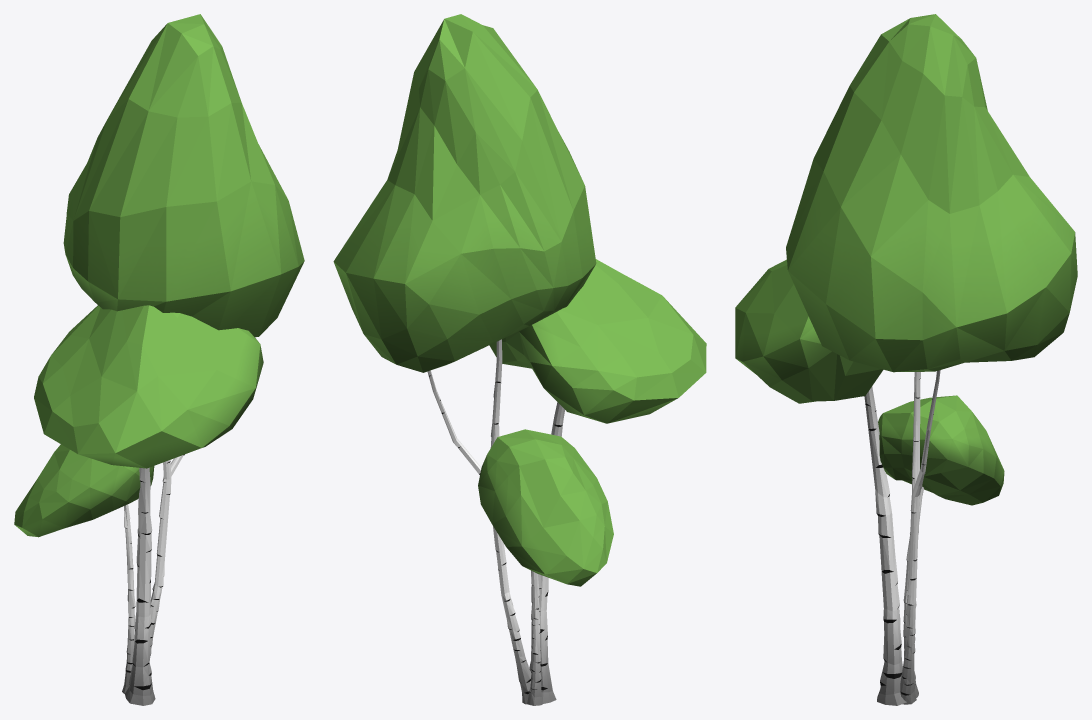
The model's file is TreeBirch-03.FBX.
3 views of the same model, side by side, from view 1: azimuth 30°, elevation 25°; view 2: azimuth 150°, elevation 25°; view 3: azimuth 270°, elevation 25° (orthographic). The views are drawn at different scales.
Parts seen in each view (by area): view 1: TreeBirch-03; view 2: TreeBirch-03; view 3: TreeBirch-03.
Boxes of the visible parts, box(x1,y1,x2,y2) form: TreeBirch-03: box(14, 14, 304, 705); TreeBirch-03: box(333, 14, 706, 705); TreeBirch-03: box(735, 14, 1077, 705).
Size of the model in its own units: 556 by 1268 by 551.
Materials: 1 (1 with a texture image).
